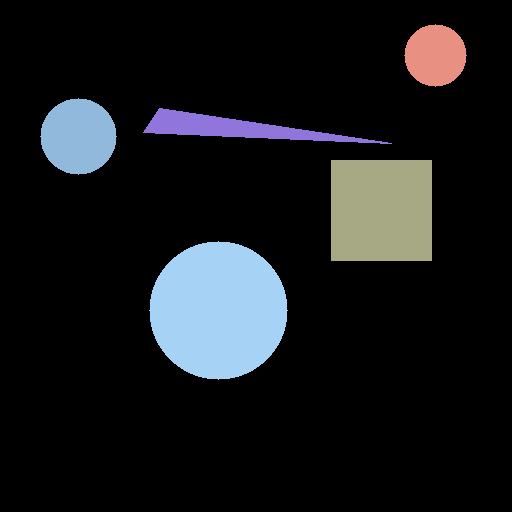circle: (149, 241, 287, 379), (40, 98, 116, 174), (404, 24, 466, 86)
square: (331, 160, 431, 260)
triangle: (143, 108, 391, 143)
